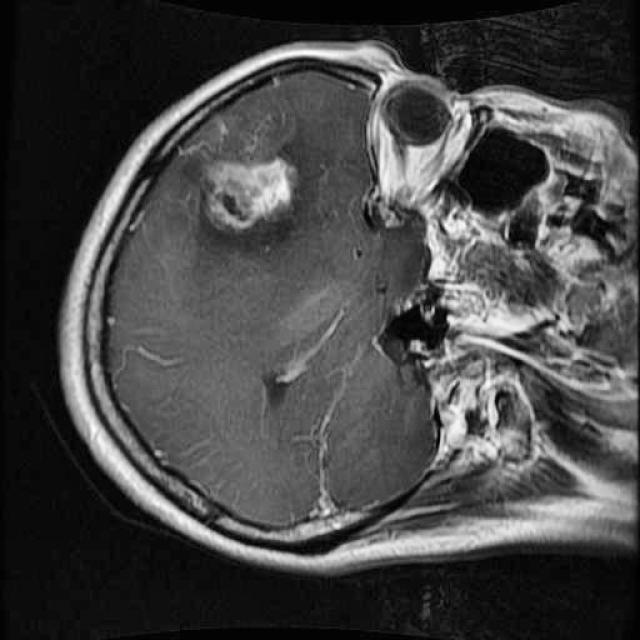Tumor: (184, 139, 314, 246)
